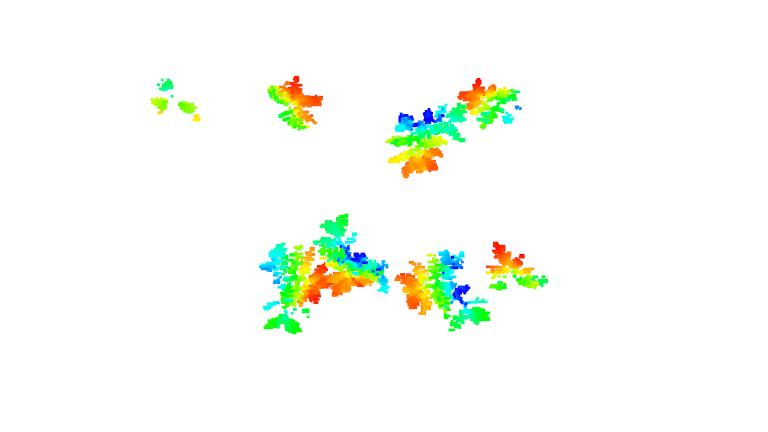chickpea: (397, 245, 491, 336), (254, 241, 335, 334), (313, 213, 397, 295), (386, 99, 470, 179), (483, 235, 549, 295), (457, 75, 526, 131), (266, 73, 325, 132), (148, 75, 204, 123)
